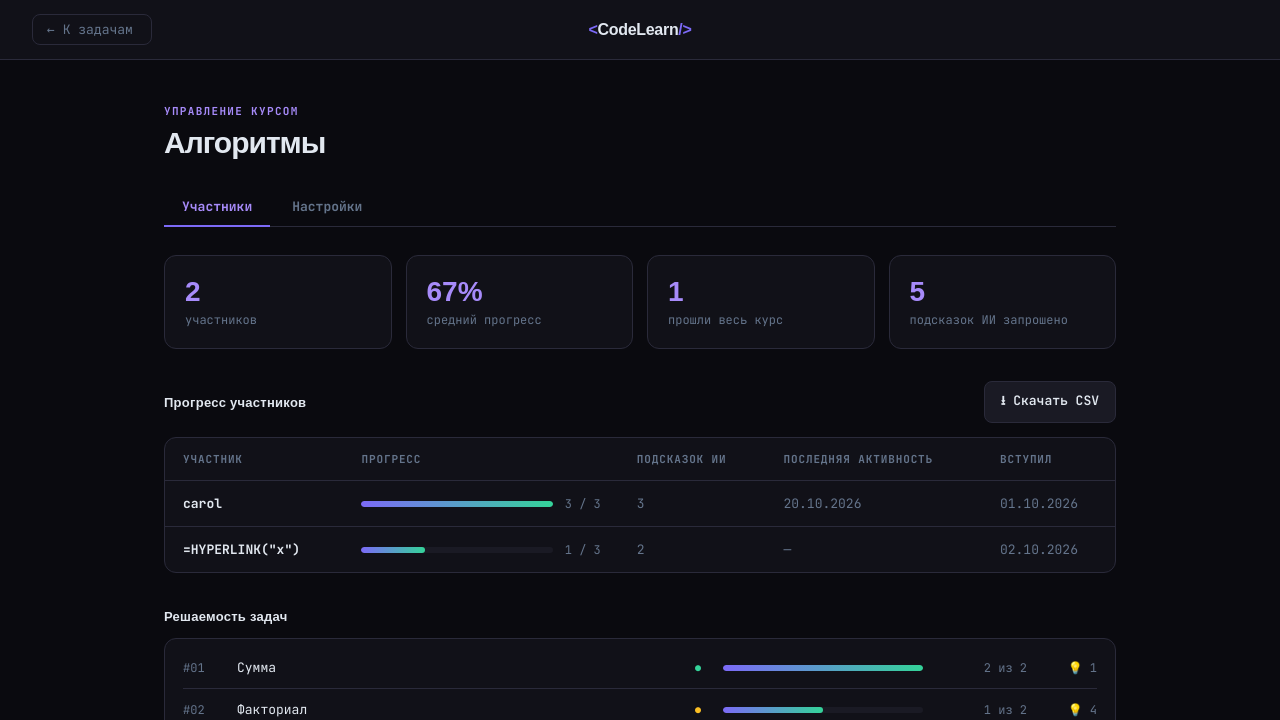
Test: вкладка «Настройки» › язык показан, но не редактируется
The width and height of the screenshot is (1280, 720).
Expected: the text "Управление курсом" is shown, [164,104,299,118]
What coordinates should you click on to do the following:
click the tab "Настройки"
I would click on:
 (327, 208)
Its box is [274,188,380,227].
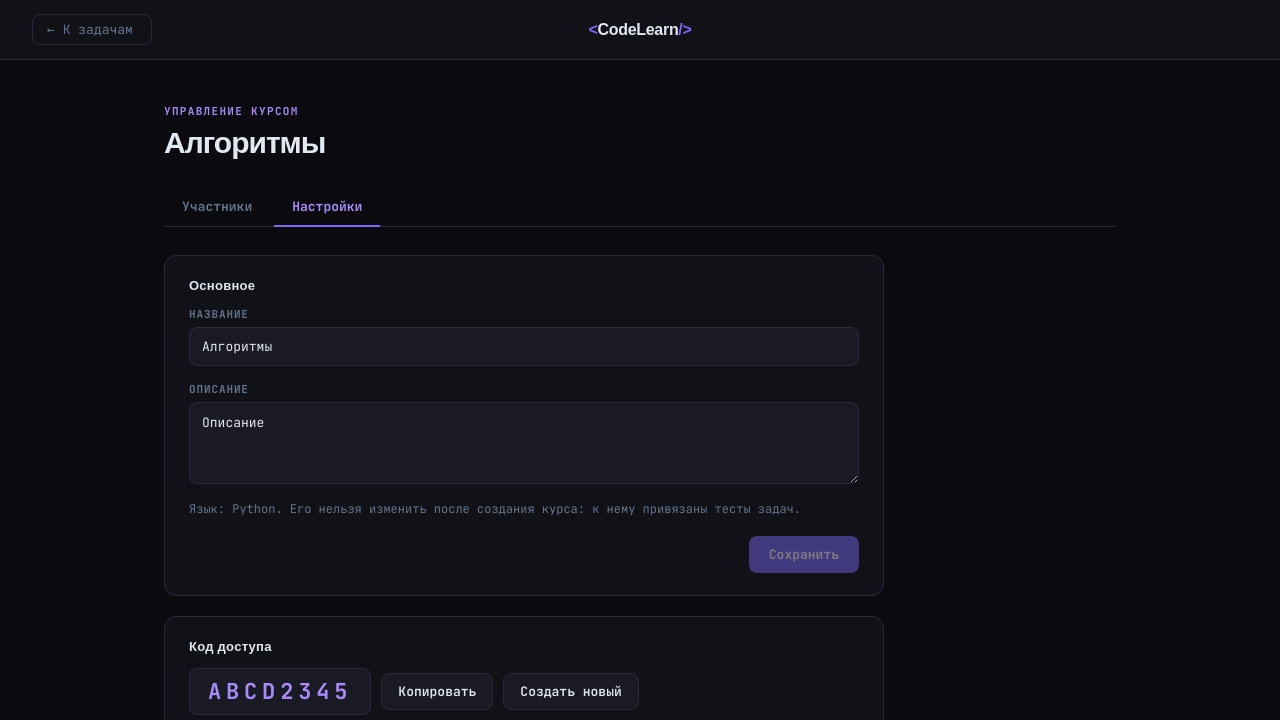
Result: the text "Язык: Python" is shown at [189,500,859,520]
